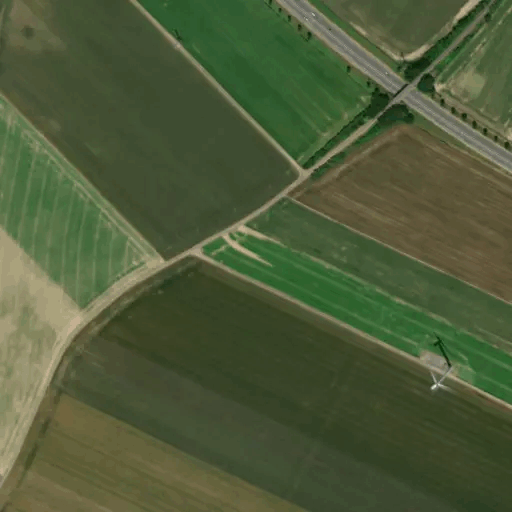wt: (422, 326, 459, 397)
